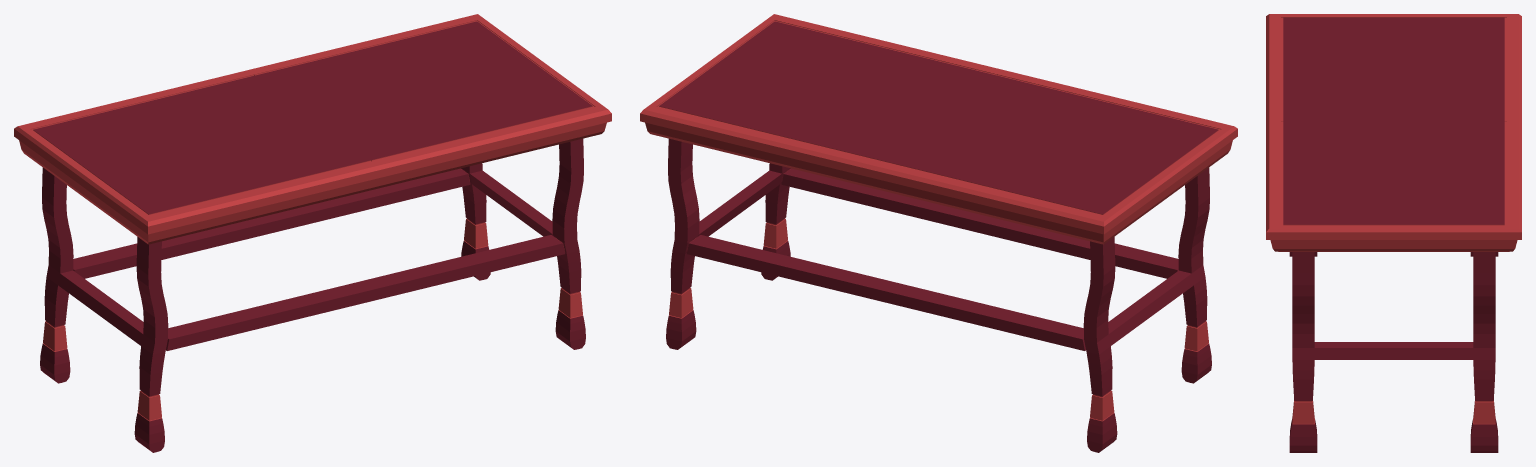
The model's file is table_002_grp.fbx.
3 views of the same model, side by side, from view 1: azimuth 30°, elevation 25°; view 2: azimuth 150°, elevation 25°; view 3: azimuth 270°, elevation 25° (orthographic). The views are drawn at different scales.
Parts seen in each view (by area): view 1: table_002_grp; view 2: table_002_grp; view 3: table_002_grp.
Boxes of the visible parts, bbox=[...] form: table_002_grp: bbox=[14, 14, 611, 452]; table_002_grp: bbox=[640, 14, 1237, 452]; table_002_grp: bbox=[1266, 14, 1521, 452].
Bounding box in the file's own units: 200 × 100 × 100.
